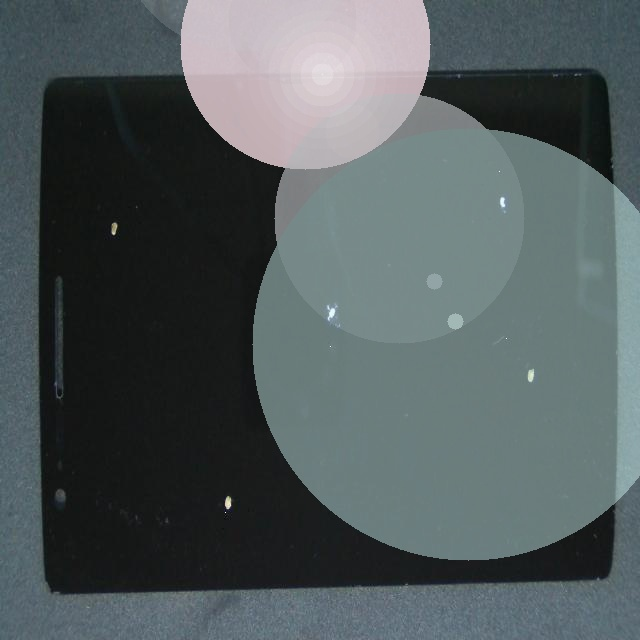stain: (284, 141, 640, 522), (159, 180, 476, 539), (235, 88, 640, 330), (99, 232, 332, 640), (44, 113, 158, 373)
